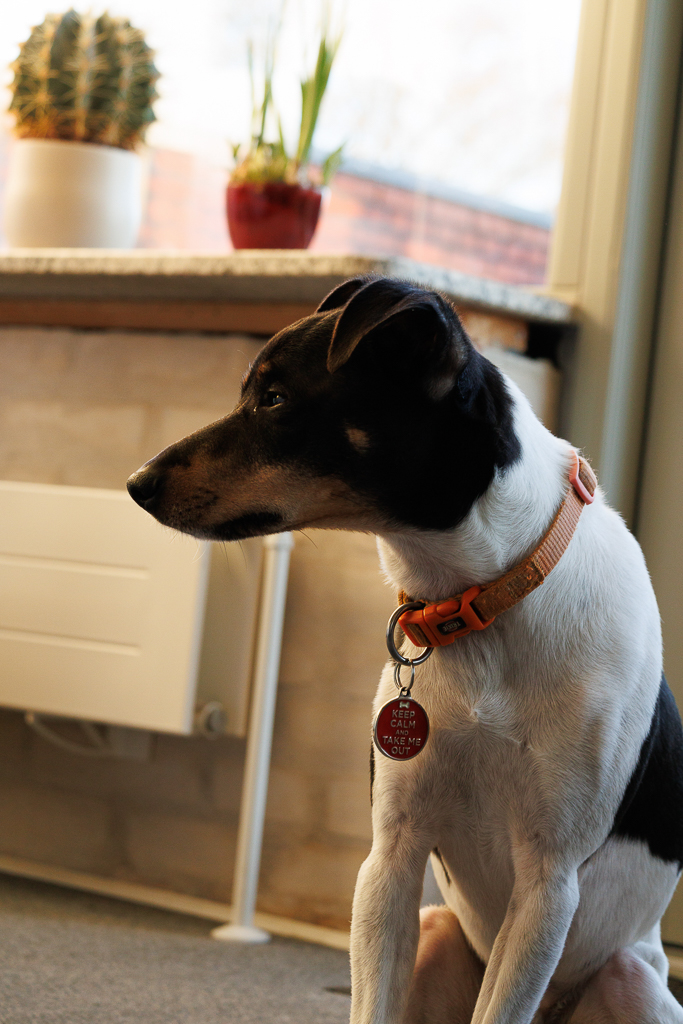Dog: (116, 268, 683, 1024)
